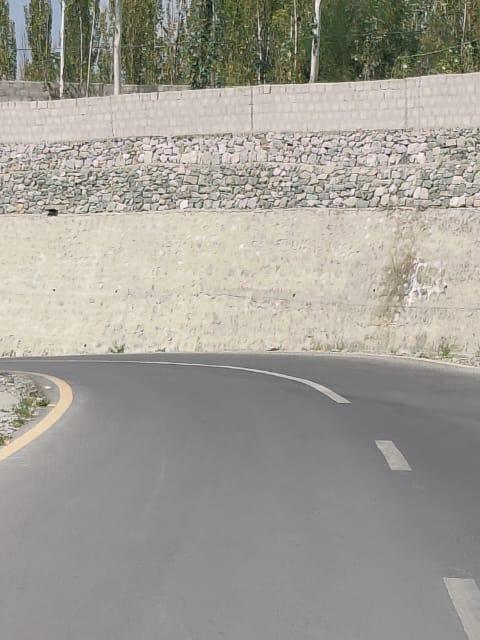left_turn: (0, 276, 423, 479)
